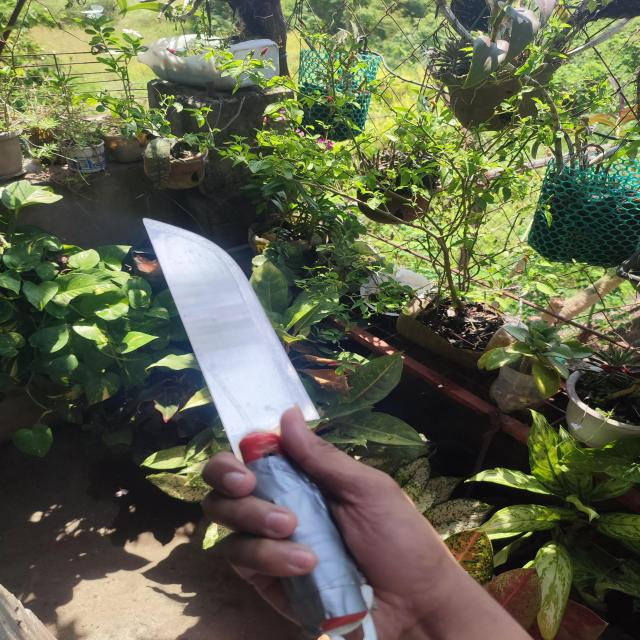knife: (142, 217, 374, 635)
